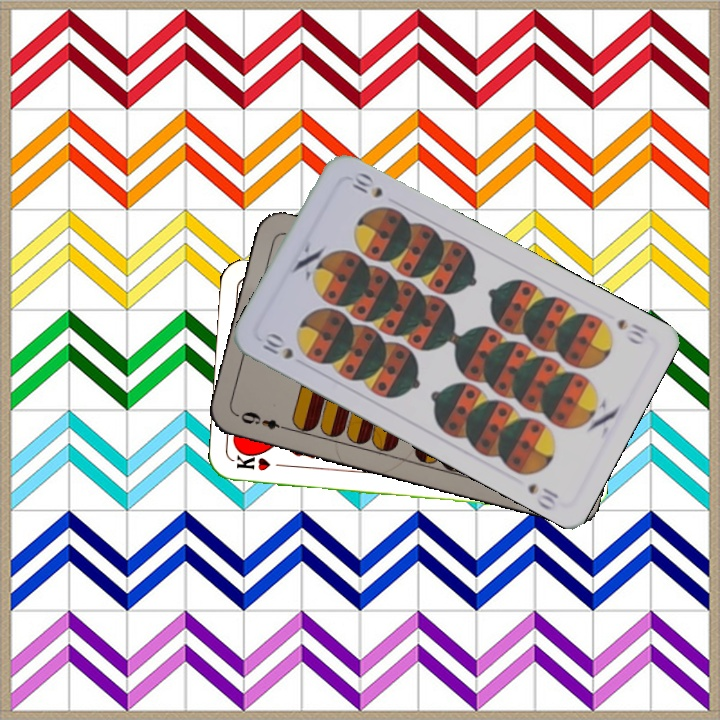E9: (234, 407, 292, 433)
HK: (233, 453, 292, 474)
S10: (256, 328, 296, 362), (613, 315, 650, 348)
